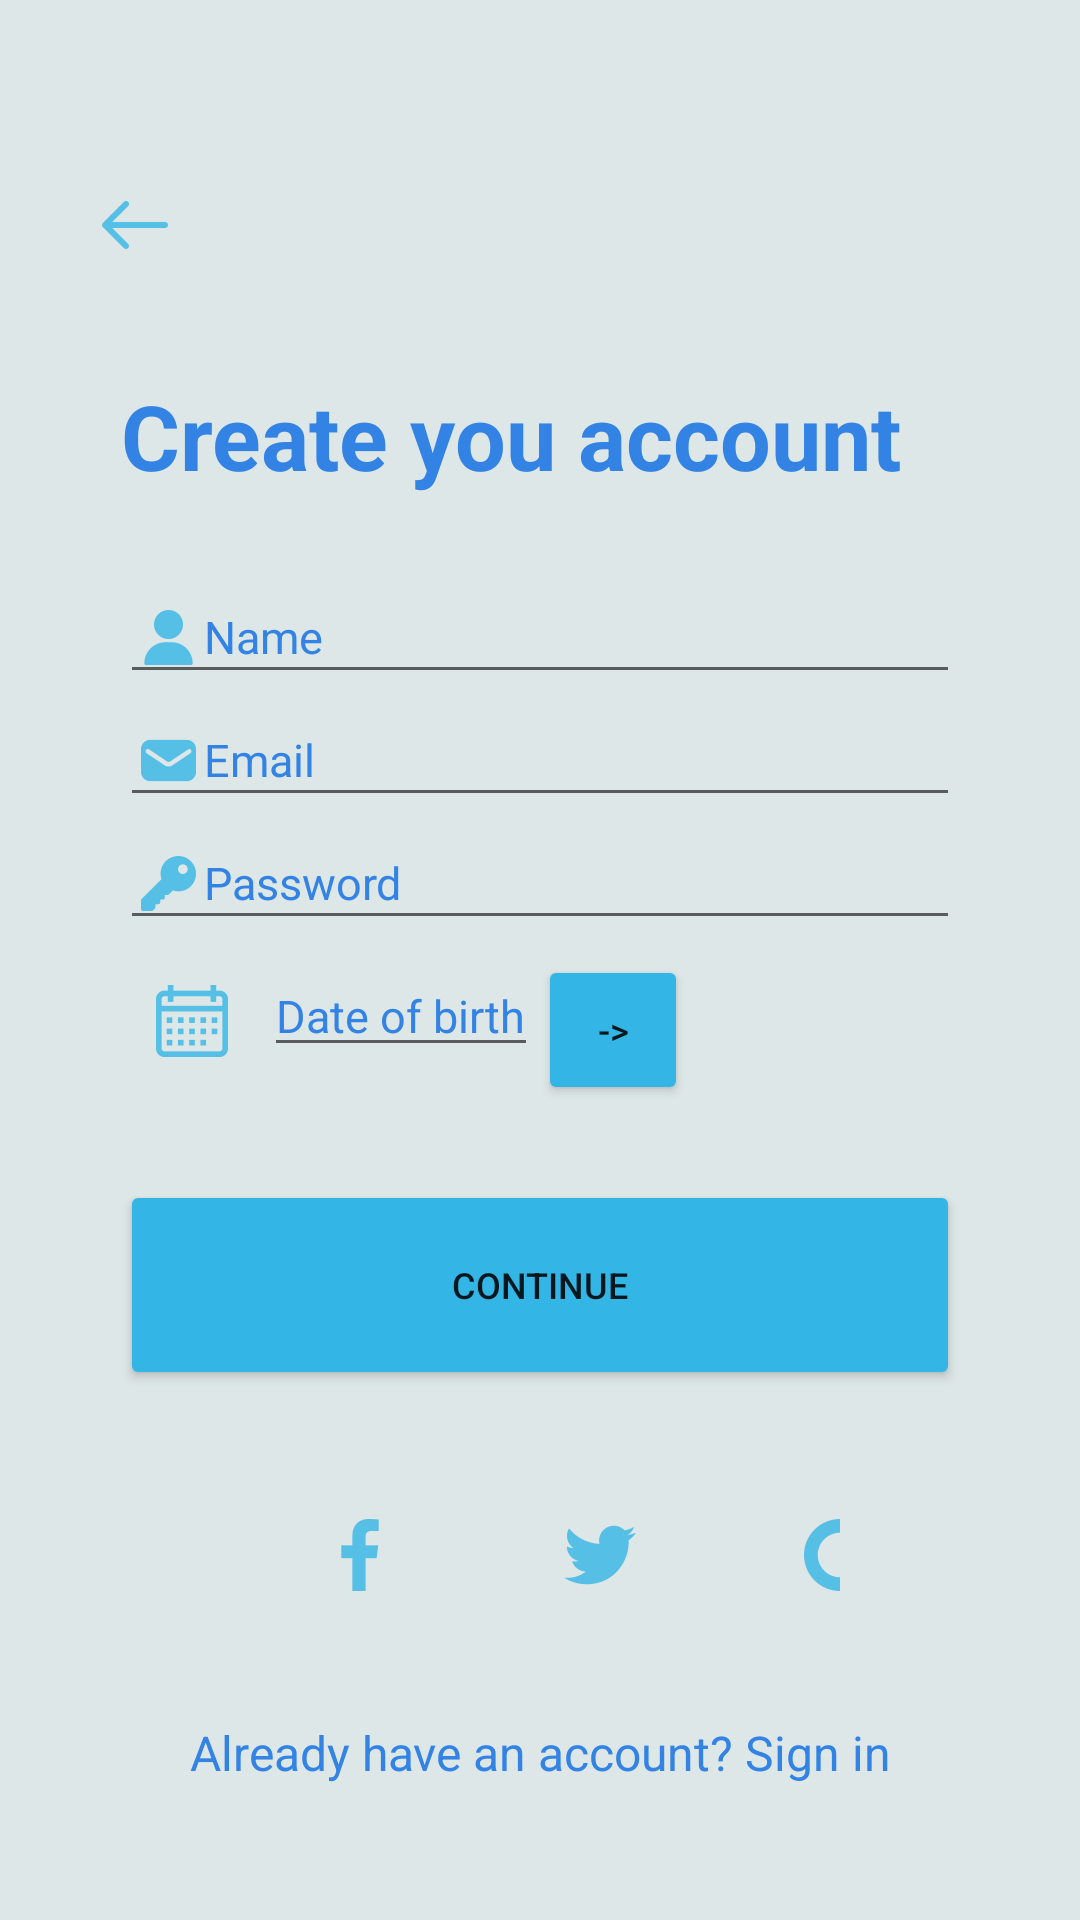

Named icons in this screenshot (1080px x 1920px) and their bounding boxes, (x1, y1, x2, y2):
back: (102, 201, 168, 249)
calendar: (156, 985, 228, 1057)
